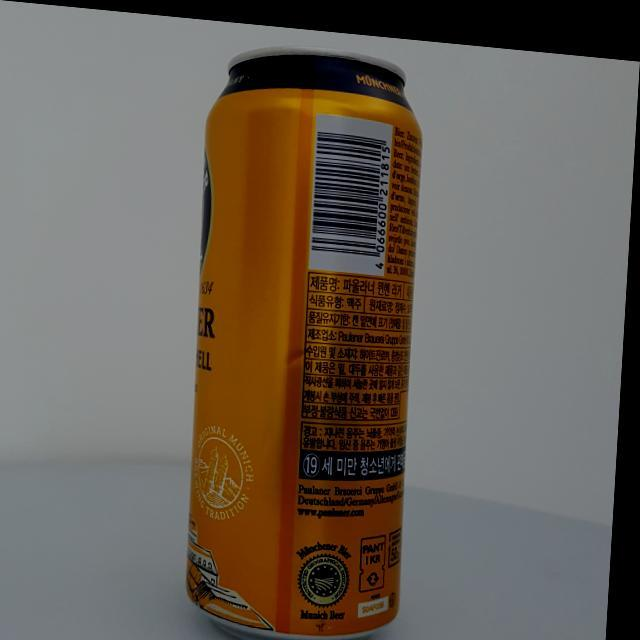beer-can: (183, 32, 432, 640)
